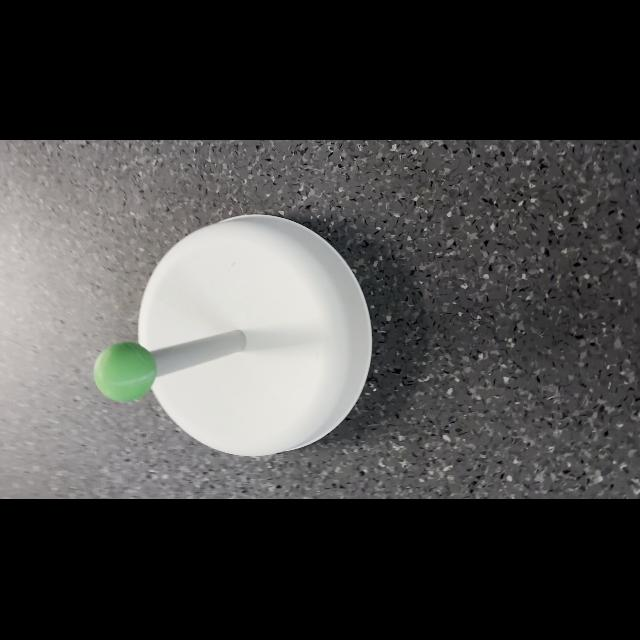objects: (91, 338, 159, 408)
